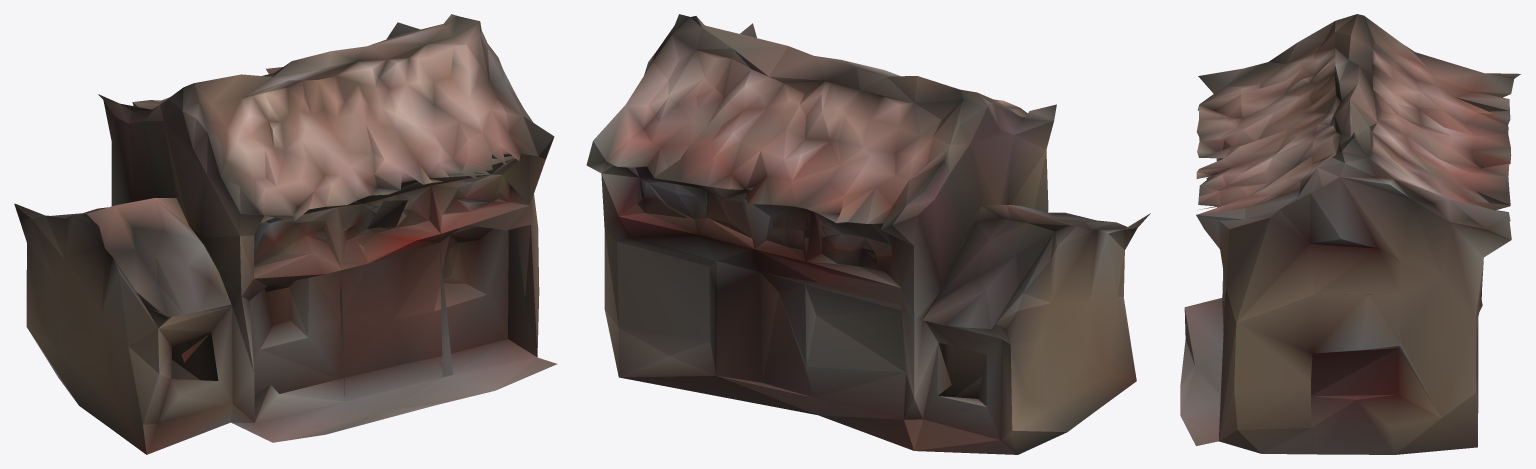
File: bq_inn.vc2.glb
3 views of the same model, side by side, from view 1: azimuth 30°, elevation 25°; view 2: azimuth 150°, elevation 25°; view 3: azimuth 270°, elevation 25° (orthographic). The views are drawn at different scales.
Visible parts, largest first — view 1: bq_inn; view 2: bq_inn; view 3: bq_inn.
Boxes of the visible parts, x1=… form: bq_inn: x1=14, y1=14, x2=557, y2=454; bq_inn: x1=586, y1=14, x2=1150, y2=454; bq_inn: x1=1180, y1=14, x2=1520, y2=454.
Bounding box in the file's own units: 1.89 × 1.4 × 1.4.
